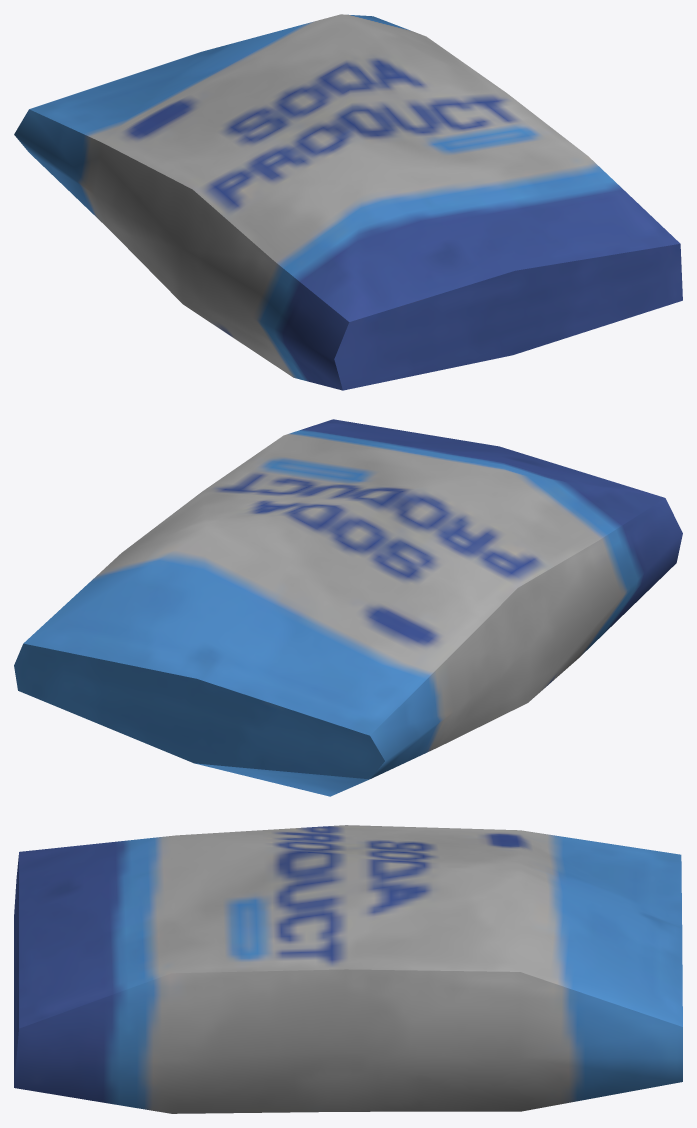
Rendered from Pfb_Bags__9.fbx.
3 views of the same model, one above another, from view 1: azimuth 30°, elevation 25°; view 2: azimuth 150°, elevation 25°; view 3: azimuth 270°, elevation 25° (orthographic). The views are drawn at different scales.
Visible parts, largest first — view 1: Mat_Bags_01_2; view 2: Mat_Bags_01_2; view 3: Mat_Bags_01_2.
Part boxes in pixels (box(x1,y1,x2,y2)): Mat_Bags_01_2: box(14, 14, 682, 390); Mat_Bags_01_2: box(14, 419, 682, 796); Mat_Bags_01_2: box(14, 825, 682, 1113).
Size of the model in its own units: 0.6258 by 0.357 by 0.9115.
1 material, 1 textured.
